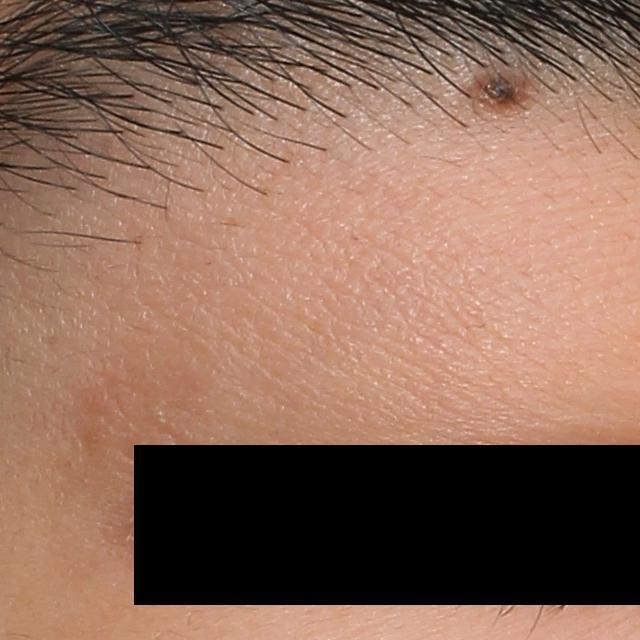nevus: (462, 64, 535, 119)
